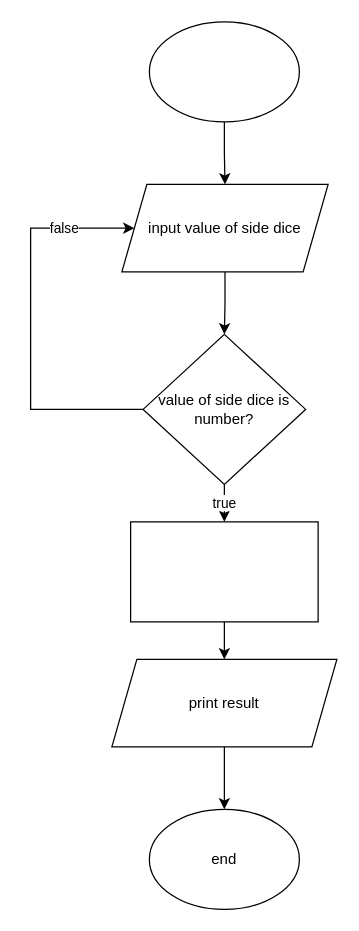
The diagram is 359 pixels wide and 931 high, and some of its shapes have lost their labels. The box of each missing label's shape, as (x1, y1, x2, y2) in pixels:
6*side*side: (129, 521, 318, 622)
start: (148, 21, 299, 122)
